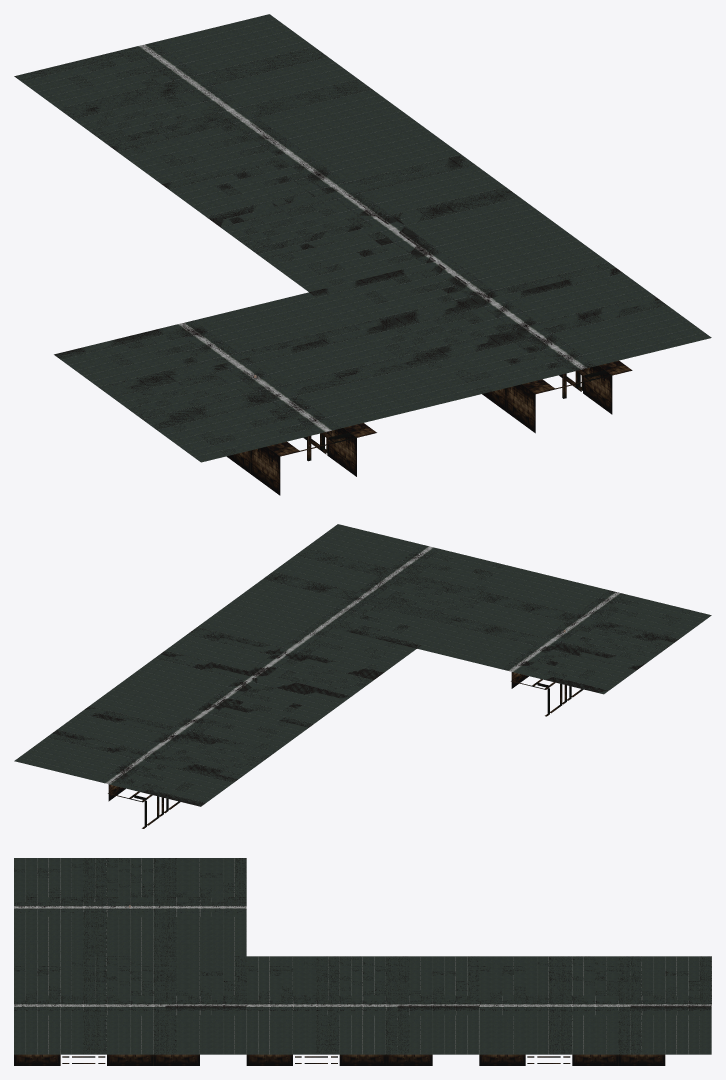
3 views of the same model, one above another, from view 1: azimuth 30°, elevation 25°; view 2: azimuth 150°, elevation 25°; view 3: azimuth 270°, elevation 25° (orthographic). The views are drawn at different scales.
Parts seen in each view (by area): view 1: REAL_HID_m3 (×2), REAL_HID_m2 (×2), REAL_HID_m4 (×2), REAL_HID_m1 (×2), REAL_HID_m0 (×2), REAL_HID_m5 (×2), REAL_HID#2_m4, REAL_HID#2_m2, REAL_HID#1_m2, REAL_HID#2_m1, REAL_HID#1_m1, REAL_HID#2_m3 (+15 smaller); view 2: REAL_HID_m2 (×2), REAL_HID_m1 (×2), REAL_HID_m3 (×2), REAL_HID_m4 (×2), REAL_HID_m0 (×2), REAL_HID_m5 (×2), REAL_HID#1_m3, REAL_HID#2_m2, REAL_HID#1_m2, REAL_HID#1_m1, REAL_HID#2_m1, REAL_HID#2_m3 (+12 smaller); view 3: REAL_HID_m3 (×2), REAL_HID_m1 (×2), REAL_HID_m2 (×2), REAL_HID_m4 (×2), REAL_HID_m0 (×2), REAL_HID_m5 (×2), REAL_HID#2_m1, REAL_HID#2_m4, REAL_HID#1_m1, REAL_HID#1_m4, REAL_HID#2_m3, REAL_HID#1_m3 (+15 smaller).
Boxes of the visible parts, x1=… form: REAL_HID_m3 (×2): x1=150, y1=223, x2=435, y2=462; REAL_HID_m2 (×2): x1=182, y1=122, x2=467, y2=360; REAL_HID_m4 (×2): x1=54, y1=153, x2=340, y2=392; REAL_HID_m1 (×2): x1=278, y1=192, x2=563, y2=431; REAL_HID_m0 (×2): x1=233, y1=159, x2=512, y2=393; REAL_HID_m5 (×2): x1=105, y1=191, x2=384, y2=424; REAL_HID#2_m4: x1=14, y1=45, x2=192, y2=113; REAL_HID#2_m2: x1=142, y1=14, x2=320, y2=82; REAL_HID#1_m2: x1=437, y1=230, x2=615, y2=298; REAL_HID#2_m1: x1=238, y1=84, x2=416, y2=152; REAL_HID#1_m1: x1=533, y1=300, x2=711, y2=368; REAL_HID#2_m3: x1=111, y1=115, x2=288, y2=184; REAL_HID_m2 (×2): x1=122, y1=621, x2=547, y2=704; REAL_HID_m1 (×2): x1=192, y1=569, x2=617, y2=652; REAL_HID_m3 (×2): x1=286, y1=592, x2=711, y2=675; REAL_HID_m4 (×2): x1=216, y1=643, x2=640, y2=727; REAL_HID_m0 (×2): x1=161, y1=597, x2=579, y2=677; REAL_HID_m5 (×2): x1=253, y1=620, x2=673, y2=699; REAL_HID#1_m3: x1=394, y1=547, x2=524, y2=597; REAL_HID#2_m2: x1=14, y1=733, x2=144, y2=783; REAL_HID#1_m2: x1=230, y1=575, x2=360, y2=625; REAL_HID#1_m1: x1=300, y1=524, x2=430, y2=574; REAL_HID#2_m1: x1=85, y1=682, x2=213, y2=732; REAL_HID#2_m3: x1=178, y1=705, x2=308, y2=755; REAL_HID_m3 (×2): x1=14, y1=858, x2=328, y2=1005; REAL_HID_m1 (×2): x1=14, y1=907, x2=328, y2=1054; REAL_HID_m2 (×2): x1=164, y1=907, x2=479, y2=1054; REAL_HID_m4 (×2): x1=165, y1=858, x2=479, y2=1005; REAL_HID_m0 (×2): x1=95, y1=907, x2=397, y2=1054; REAL_HID_m5 (×2): x1=94, y1=858, x2=397, y2=1005; REAL_HID#2_m1: x1=479, y1=1005, x2=560, y2=1054; REAL_HID#2_m4: x1=630, y1=956, x2=711, y2=1005; REAL_HID#1_m1: x1=14, y1=1005, x2=95, y2=1054; REAL_HID#1_m4: x1=165, y1=956, x2=246, y2=1005; REAL_HID#2_m3: x1=479, y1=956, x2=560, y2=1005; REAL_HID#1_m3: x1=14, y1=956, x2=95, y2=1005.
Bounding box in the file's own units: 40 × 4.14 × 60.02.
Materials: 6 (6 with a texture image).
